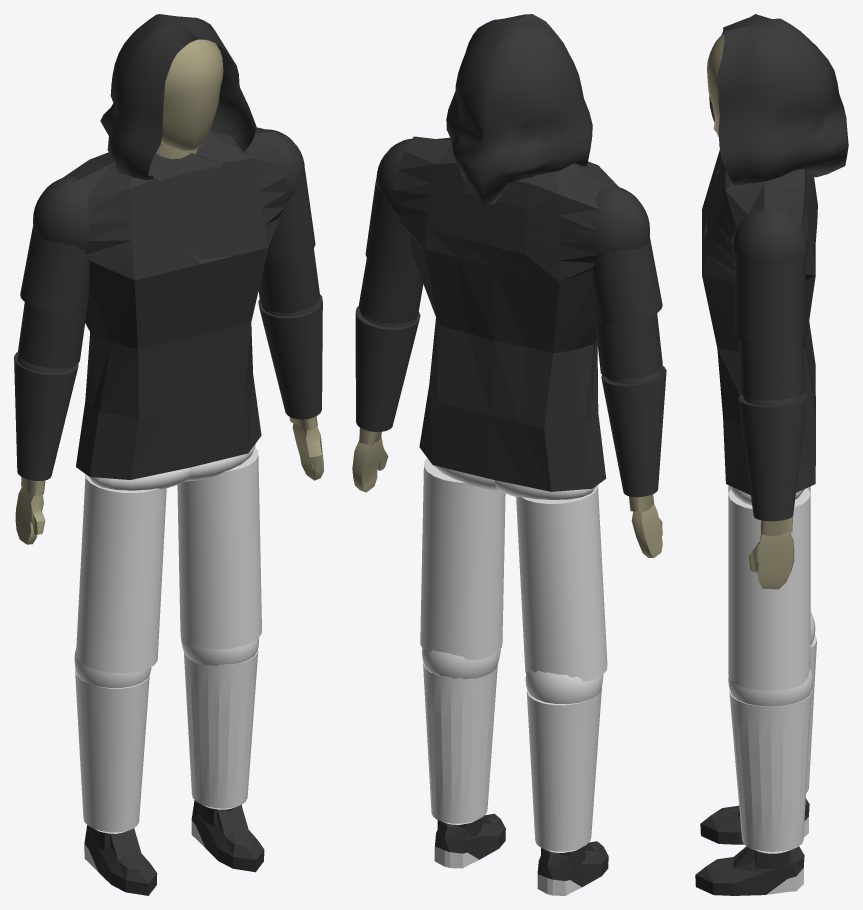
File: hood.fbx
3 views of the same model, side by side, from view 1: azimuth 30°, elevation 25°; view 2: azimuth 150°, elevation 25°; view 3: azimuth 270°, elevation 25° (orthographic).
Parts seen in each view (by area): view 1: casual_guy_for_atmos:pCube24, casual_guy_for_atmos:pCylinder29, casual_guy_for_atmos:pCylinder28, pSphere5, casual_guy_for_atmos:pCylinder22, casual_guy_for_atmos:pCylinder21, casual_guy_for_atmos:pCylinder33, casual_guy_for_atmos:pSphere7, casual_guy_for_atmos:pCylinder31, casual_guy_for_atmos:pCube23, casual_guy_for_atmos:pCylinder35, casual_guy_for_atmos:pCylinder32 (+13 smaller); view 2: casual_guy_for_atmos:pCube24, pSphere5, casual_guy_for_atmos:pCylinder29, casual_guy_for_atmos:pCylinder28, casual_guy_for_atmos:pCylinder22, casual_guy_for_atmos:pCylinder21, casual_guy_for_atmos:pCylinder33, casual_guy_for_atmos:pCylinder31, casual_guy_for_atmos:pCylinder35, casual_guy_for_atmos:pCylinder32, casual_guy_for_atmos:pSphere25, casual_guy_for_atmos:pCylinder30 (+9 smaller); view 3: pSphere5, casual_guy_for_atmos:pCube24, casual_guy_for_atmos:pCylinder28, casual_guy_for_atmos:pCylinder21, casual_guy_for_atmos:pCylinder31, casual_guy_for_atmos:pCylinder34, casual_guy_for_atmos:pCylinder30, casual_guy_for_atmos:pCube12, casual_guy_for_atmos:pSphere24, casual_guy_for_atmos:pCube3, casual_guy_for_atmos:pCube11, casual_guy_for_atmos:pSphere9 (+5 smaller).
Part boxes in pixels (left/top/right/bottom): casual_guy_for_atmos:pCube24: left=63, top=127, right=286, bottom=479; casual_guy_for_atmos:pCylinder29: left=76, top=474, right=166, bottom=673; casual_guy_for_atmos:pCylinder28: left=177, top=447, right=261, bottom=649; pSphere5: left=100, top=14, right=256, bottom=180; casual_guy_for_atmos:pCylinder22: left=75, top=668, right=149, bottom=833; casual_guy_for_atmos:pCylinder21: left=184, top=649, right=258, bottom=809; casual_guy_for_atmos:pCylinder33: left=14, top=352, right=78, bottom=480; casual_guy_for_atmos:pSphere7: left=161, top=39, right=223, bottom=150; casual_guy_for_atmos:pCylinder31: left=258, top=294, right=322, bottom=419; casual_guy_for_atmos:pCube23: left=158, top=164, right=226, bottom=258; casual_guy_for_atmos:pCylinder35: left=20, top=225, right=89, bottom=314; casual_guy_for_atmos:pCylinder32: left=18, top=284, right=89, bottom=368; casual_guy_for_atmos:pCube24: left=393, top=136, right=618, bottom=491; pSphere5: left=446, top=14, right=592, bottom=204; casual_guy_for_atmos:pCylinder29: left=516, top=485, right=607, bottom=681; casual_guy_for_atmos:pCylinder28: left=420, top=458, right=505, bottom=660; casual_guy_for_atmos:pCylinder22: left=526, top=687, right=601, bottom=852; casual_guy_for_atmos:pCylinder21: left=423, top=662, right=497, bottom=824; casual_guy_for_atmos:pCylinder33: left=601, top=366, right=666, bottom=497; casual_guy_for_atmos:pCylinder31: left=355, top=306, right=420, bottom=431; casual_guy_for_atmos:pCylinder35: left=592, top=236, right=662, bottom=324; casual_guy_for_atmos:pCylinder32: left=593, top=299, right=662, bottom=379; casual_guy_for_atmos:pSphere25: left=592, top=186, right=649, bottom=258; casual_guy_for_atmos:pCylinder30: left=358, top=258, right=423, bottom=324; pSphere5: left=709, top=14, right=848, bottom=185; casual_guy_for_atmos:pCube24: left=702, top=150, right=817, bottom=495; casual_guy_for_atmos:pCylinder28: left=728, top=488, right=810, bottom=690; casual_guy_for_atmos:pCylinder21: left=729, top=690, right=811, bottom=853; casual_guy_for_atmos:pCylinder31: left=738, top=393, right=807, bottom=521; casual_guy_for_atmos:pCylinder34: left=735, top=257, right=805, bottom=343; casual_guy_for_atmos:pCylinder30: left=739, top=337, right=805, bottom=400; casual_guy_for_atmos:pCube12: left=695, top=846, right=804, bottom=895; casual_guy_for_atmos:pSphere24: left=732, top=208, right=807, bottom=265; casual_guy_for_atmos:pCube3: left=749, top=532, right=794, bottom=589; casual_guy_for_atmos:pCube11: left=700, top=798, right=809, bottom=844; casual_guy_for_atmos:pSphere9: left=728, top=668, right=813, bottom=706.
Size of the model in its own units: 8.44 by 22.55 by 3.72.
